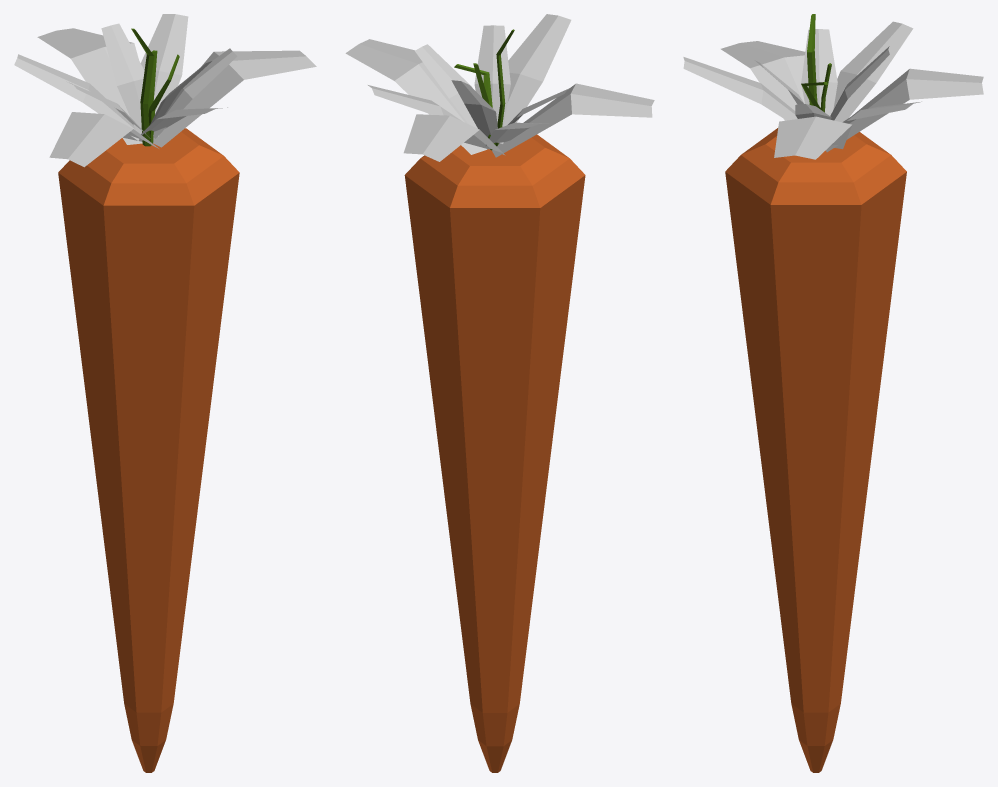
File: Carota metà crescita.fbx
3 views of the same model, side by side, from view 1: azimuth 30°, elevation 25°; view 2: azimuth 150°, elevation 25°; view 3: azimuth 270°, elevation 25° (orthographic).
Parts seen in each view (by area): view 1: Circle.001; view 2: Circle.001; view 3: Circle.001.
Boxes of the visible parts, bbox=[...] form: Circle.001: bbox=[14, 14, 316, 772]; Circle.001: bbox=[345, 14, 654, 772]; Circle.001: bbox=[683, 14, 983, 772].
Size of the model in its own units: 2.88 by 7.35 by 2.68.
